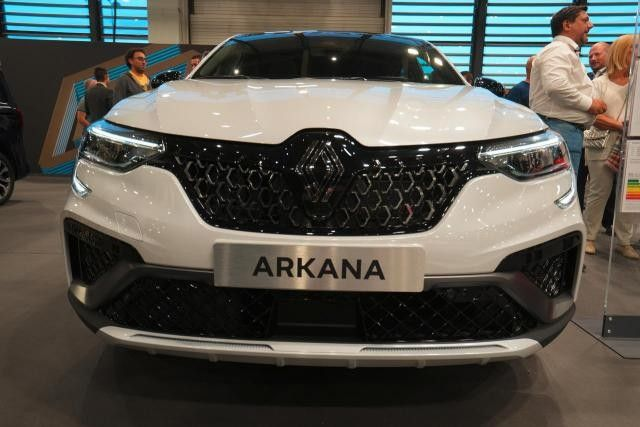plate: (214, 246, 427, 290)
